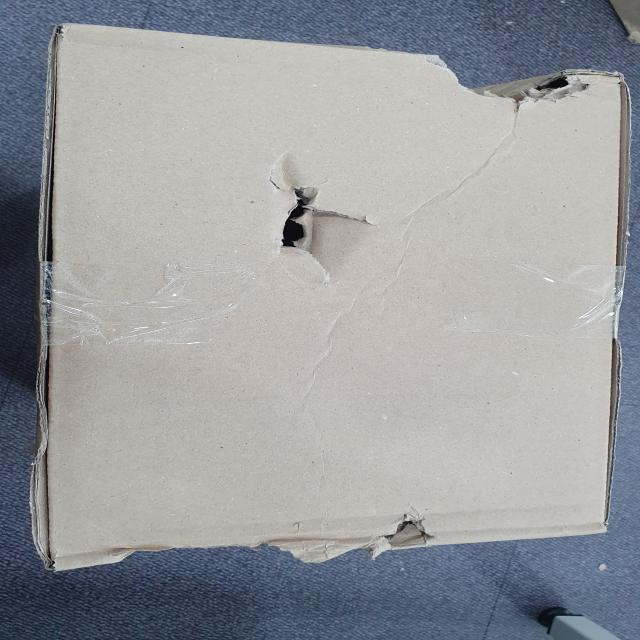hole: (260, 182, 374, 262), (442, 53, 598, 104), (362, 517, 435, 549)
